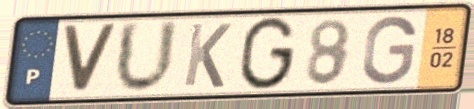8: (302, 16, 353, 88)
G: (235, 14, 299, 93), (359, 13, 420, 87)
K: (180, 21, 235, 90)
U: (111, 17, 182, 97)
V: (59, 23, 121, 97)
